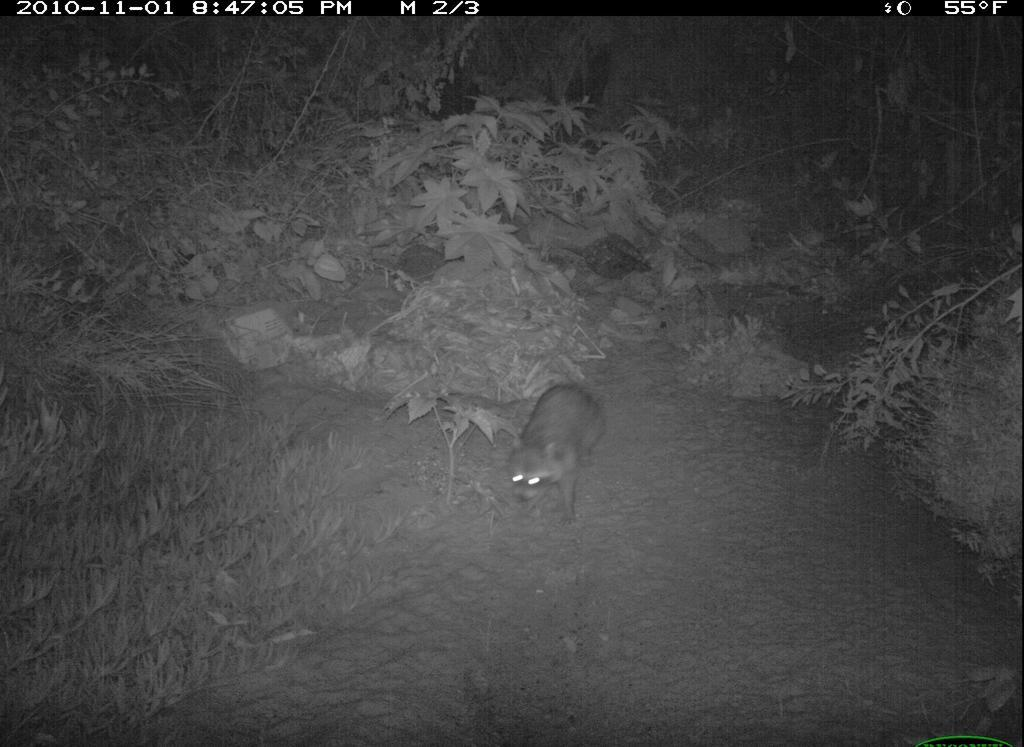raccoon: (493, 373, 619, 537)
